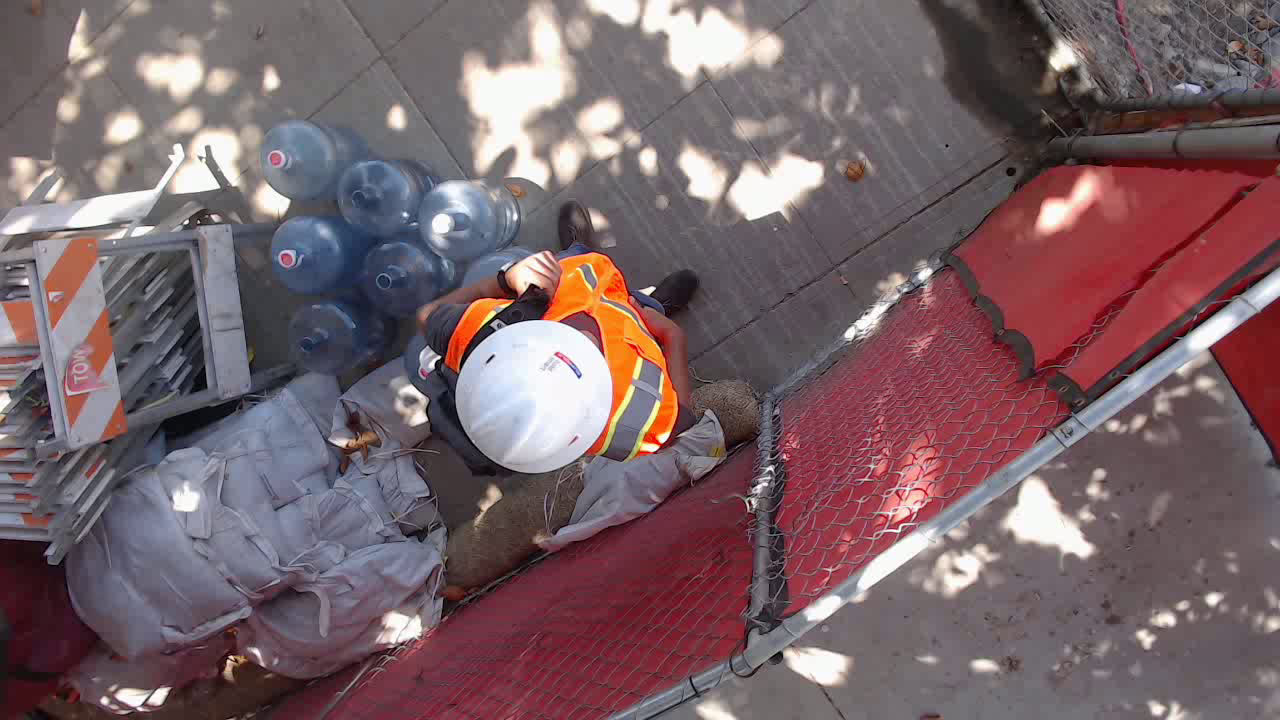hardhat: (454, 319, 612, 478)
safetyvest: (452, 254, 679, 459)
